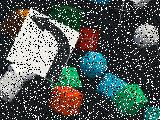Left: (6, 8, 81, 84)
